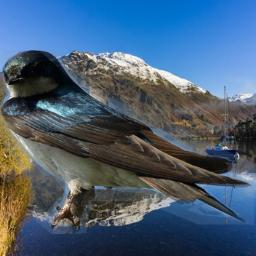Swallow: (0, 50, 254, 234)
